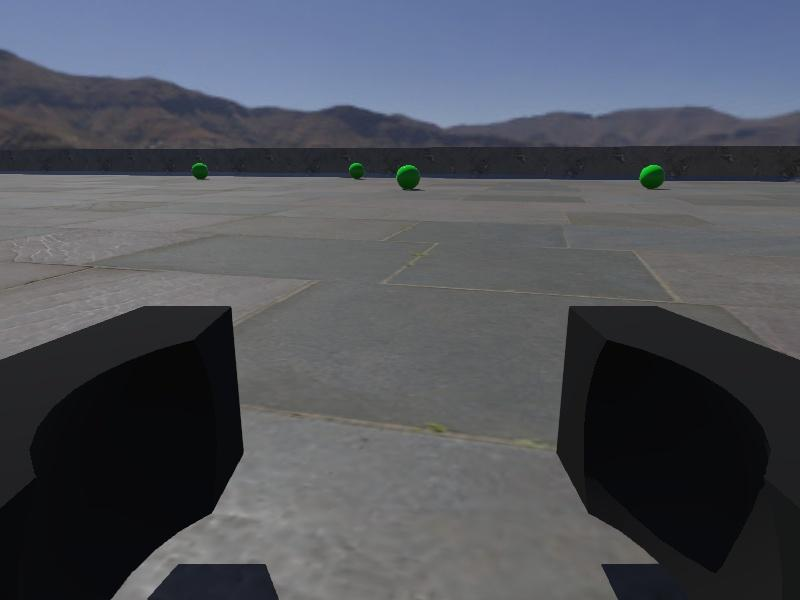green ball: (395, 163, 422, 191), (638, 162, 665, 189), (191, 162, 209, 180), (348, 162, 365, 180)
